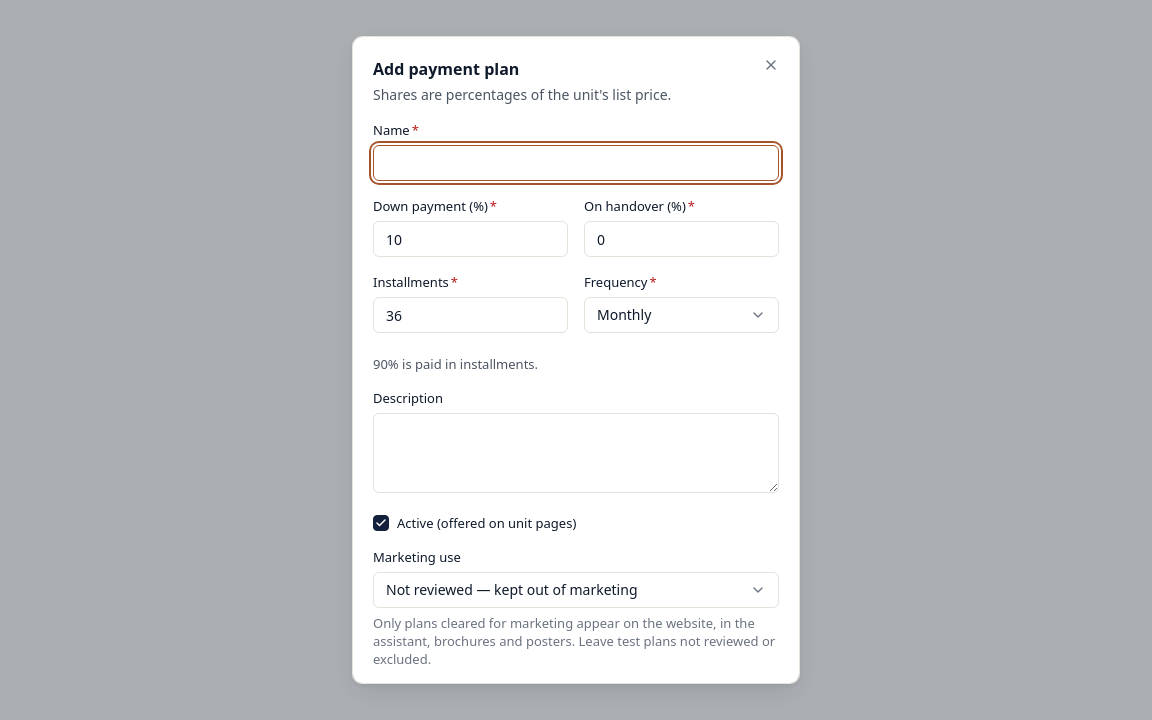
Test: plan and building forms › blocks invalid shares before calling the API
Later steps or results of the test are not shown.
Type "Cash" into the field labelled "Name*" at (576, 163), box x1=373 y1=145 x2=779 y2=181
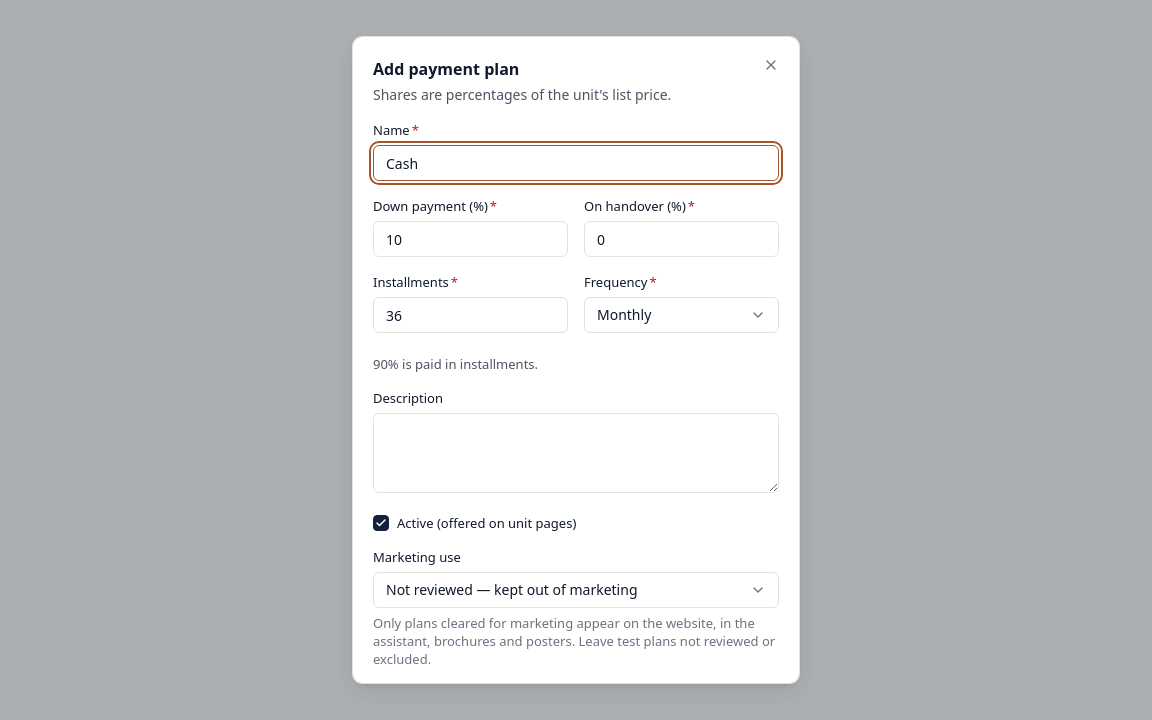
Replace the text in the field labelled "Down payment (%)*" with "50" at (470, 239), box x1=373 y1=221 x2=568 y2=257
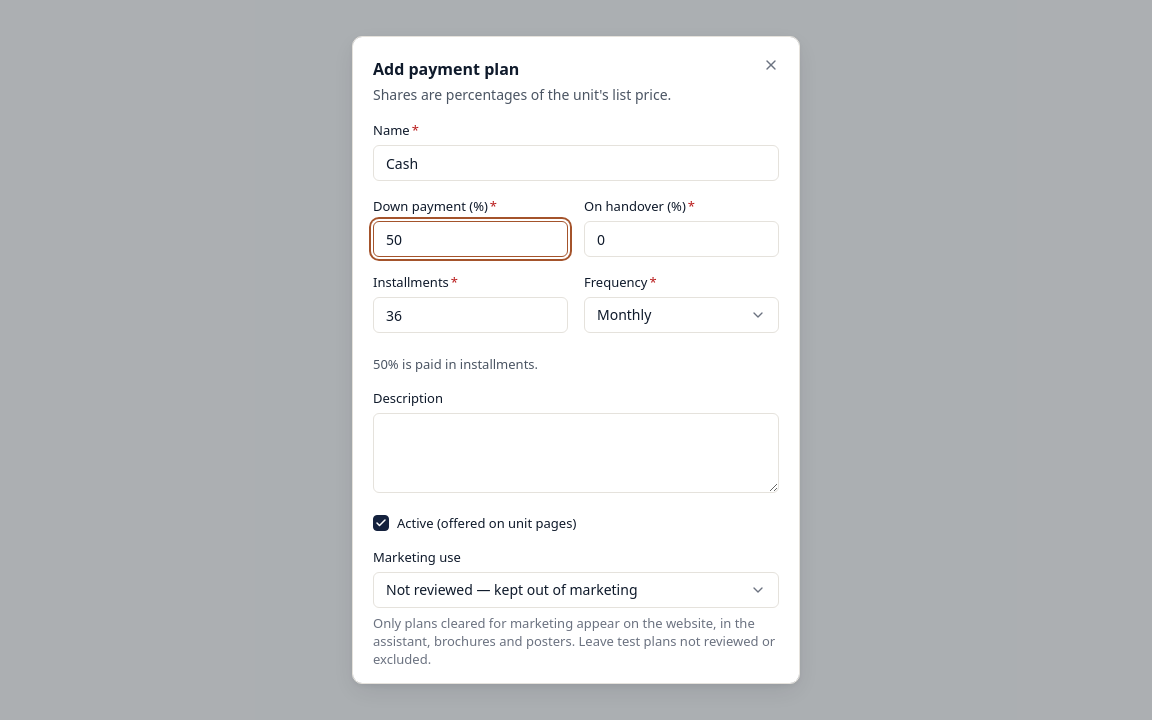
Replace the text in the number field labelled "Installments*" with "0" at (470, 315), box x1=373 y1=297 x2=568 y2=333
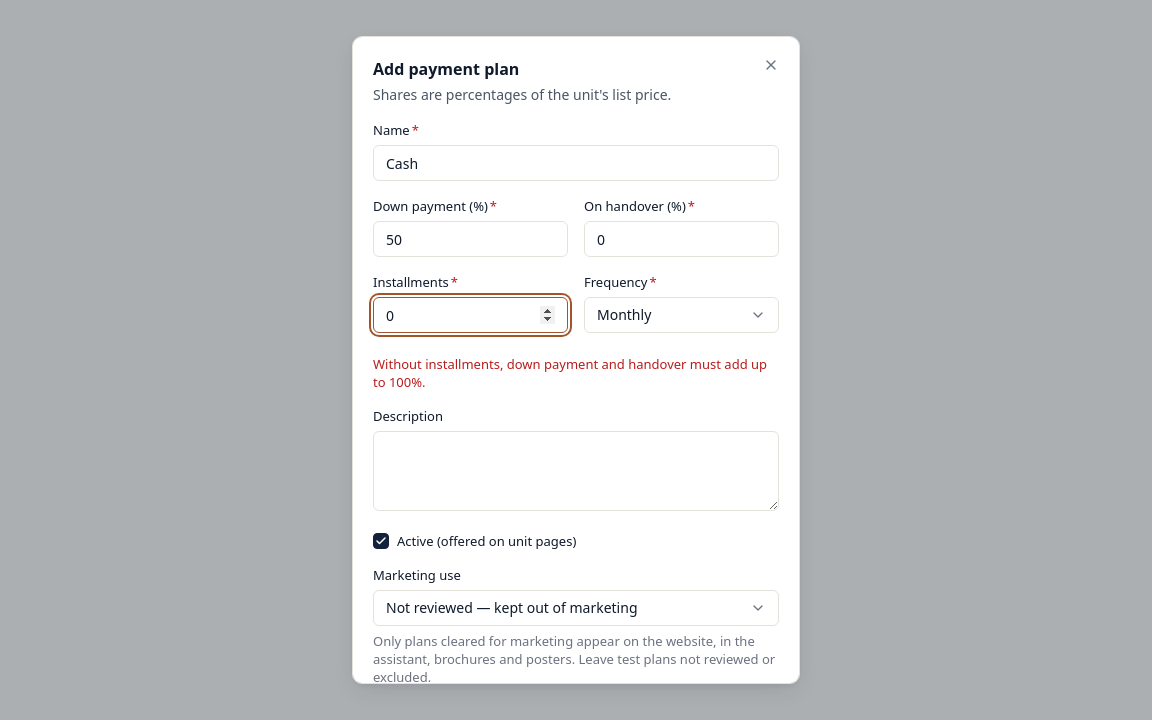
Now the message shows "add up to 100%", box x1=373 y1=355 x2=767 y2=391
